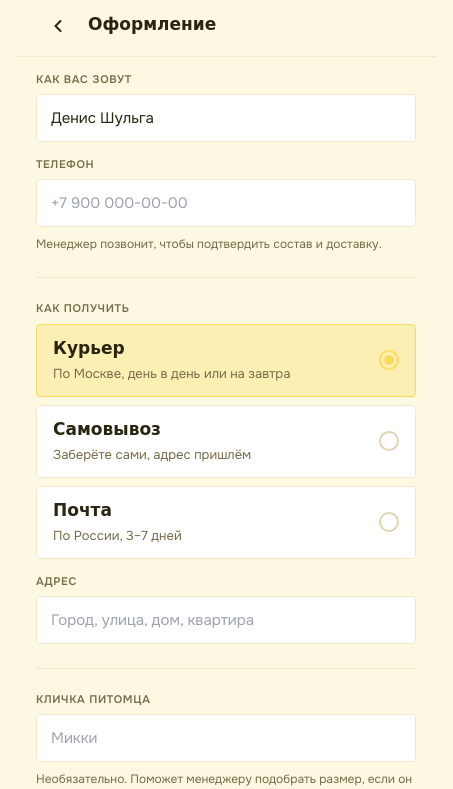
CheckoutScreen — форма › курьеру нужен адрес, самовывозу — нет
Expected: the text "как получить" is shown, [36,301,130,315]
# Курьер выбран по умолчанию: поле адреса на месте, и без него нельзя.
Type "+79161234567" into the field with placeholder "+7 900 000-00-00".
click(226, 203); type("+79161234567")  # box [51,192,401,215]
(page scrolled)
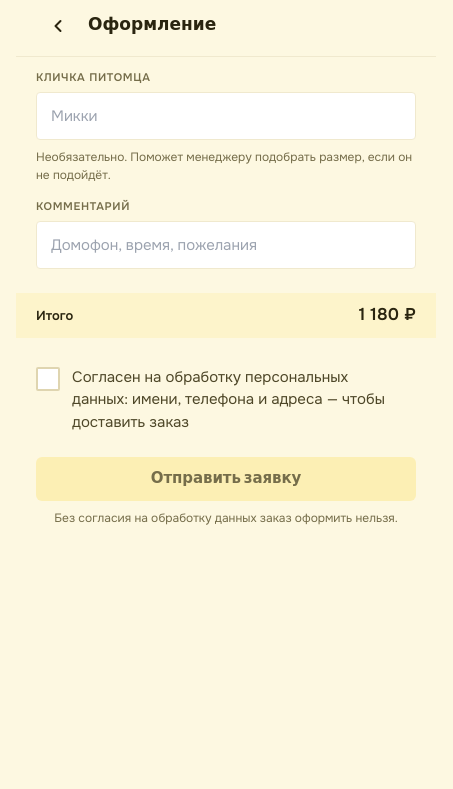
Click the checkbox.
click(226, 399)  # box [36,358,416,441]
(page scrolled)
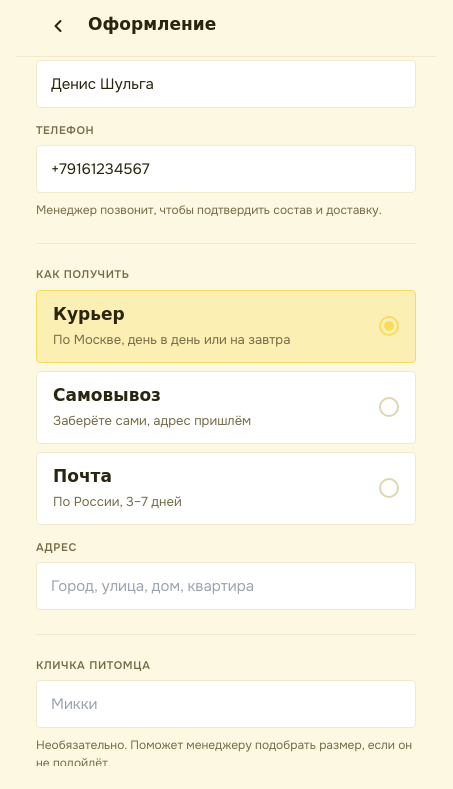
Expected: the field with placeholder "Город, улица, дом, квартира" is shown, [51,574,401,597]
Click the text "Самовывоз".
click(107, 396)  # box [53,383,161,410]
(page scrolled)
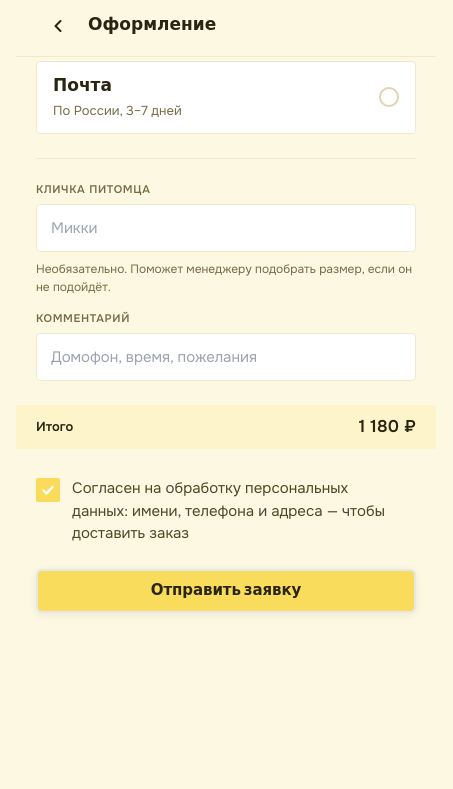
Expected: the field with placeholder "Город, улица" is not shown
Now the button "Отправить заявку" is enabled, box [36,569,416,613]
